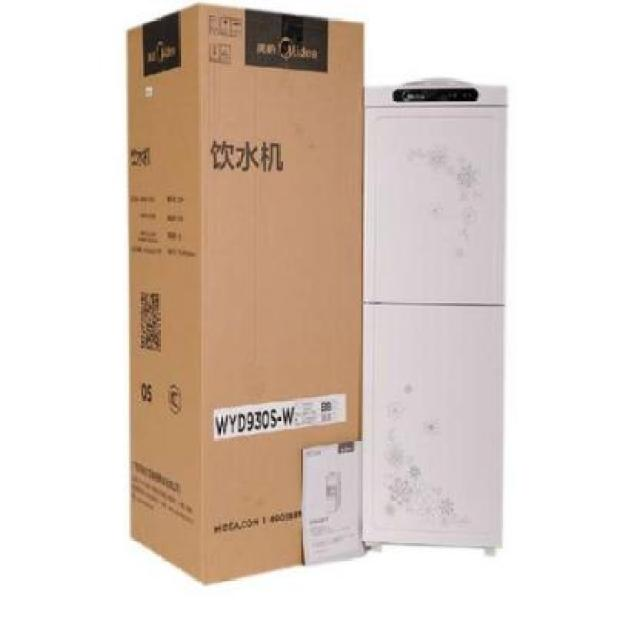cooler: (362, 73, 512, 554)
